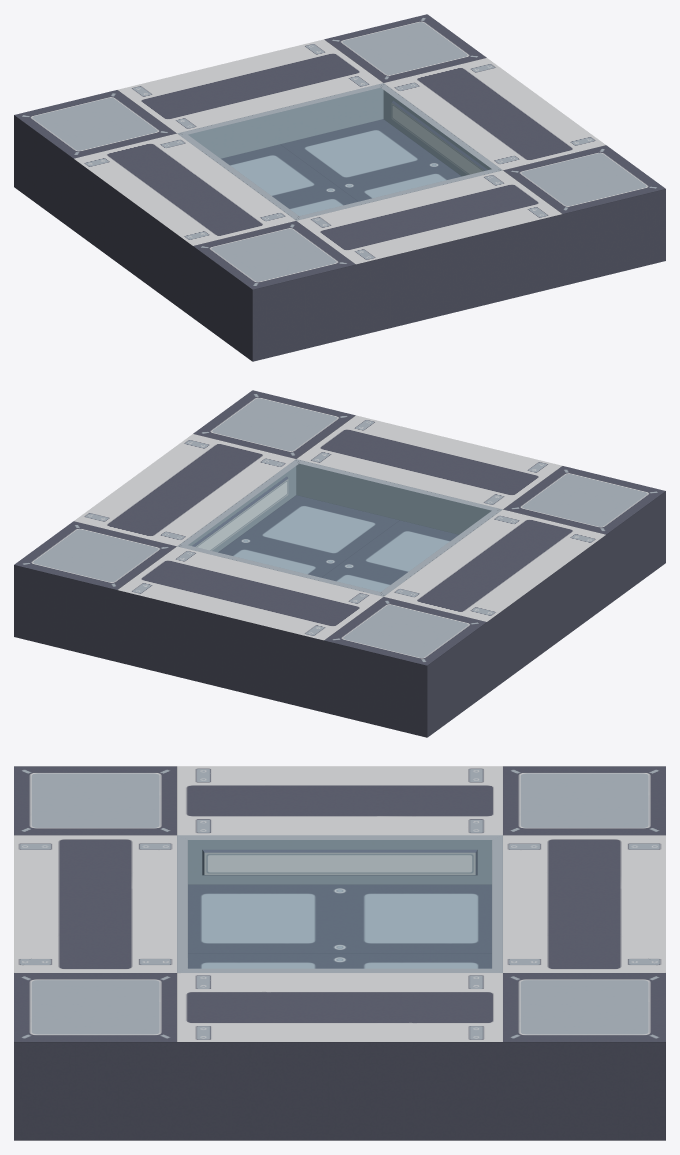
The model's file is Floor_01.FBX.
3 renders of one model, top to bottom at view 1: azimuth 30°, elevation 25°; view 2: azimuth 150°, elevation 25°; view 3: azimuth 270°, elevation 25°, orthographic. The views are drawn at different scales.
Visible parts, largest first — view 1: Floor_01; view 2: Floor_01; view 3: Floor_01.
Part boxes in pixels (x1=…): Floor_01: x1=14, y1=14, x2=665, y2=361; Floor_01: x1=14, y1=390, x2=665, y2=737; Floor_01: x1=14, y1=766, x2=665, y2=1140.
Bounding box in the file's own units: 6 × 1 × 6.
3 materials, 2 textured.
